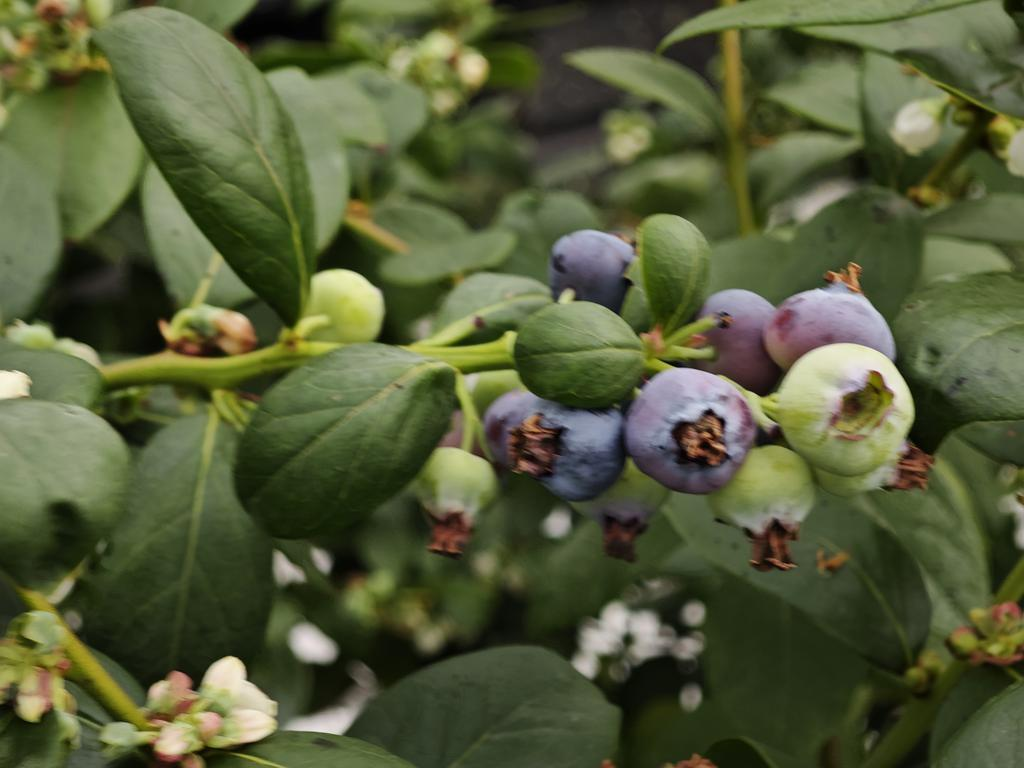RipeBlueBerry: (630, 366, 755, 495), (513, 389, 627, 502), (548, 225, 635, 305)
Semi-RipeBlueBerry: (765, 272, 908, 360)
UnripeBlueBerry: (775, 343, 918, 473)
